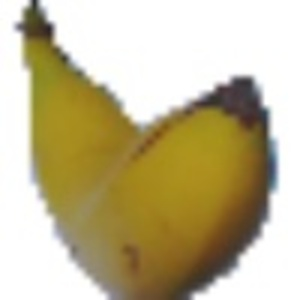banana: (13, 7, 281, 295)
